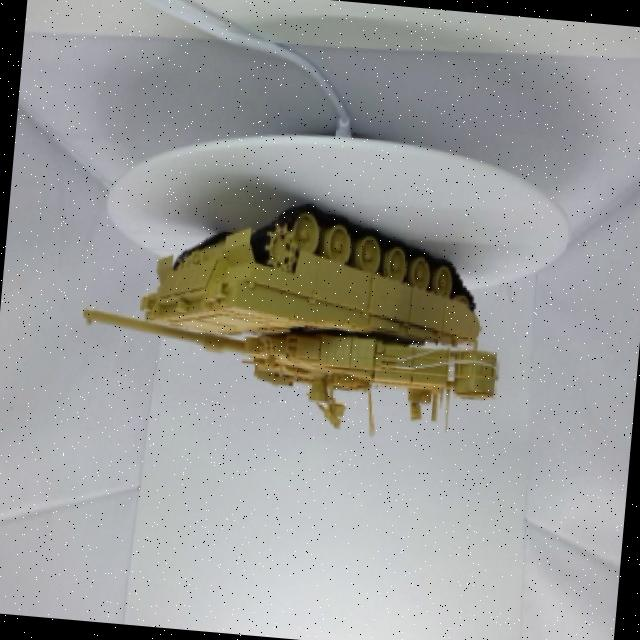korea tank: (59, 180, 517, 468)
